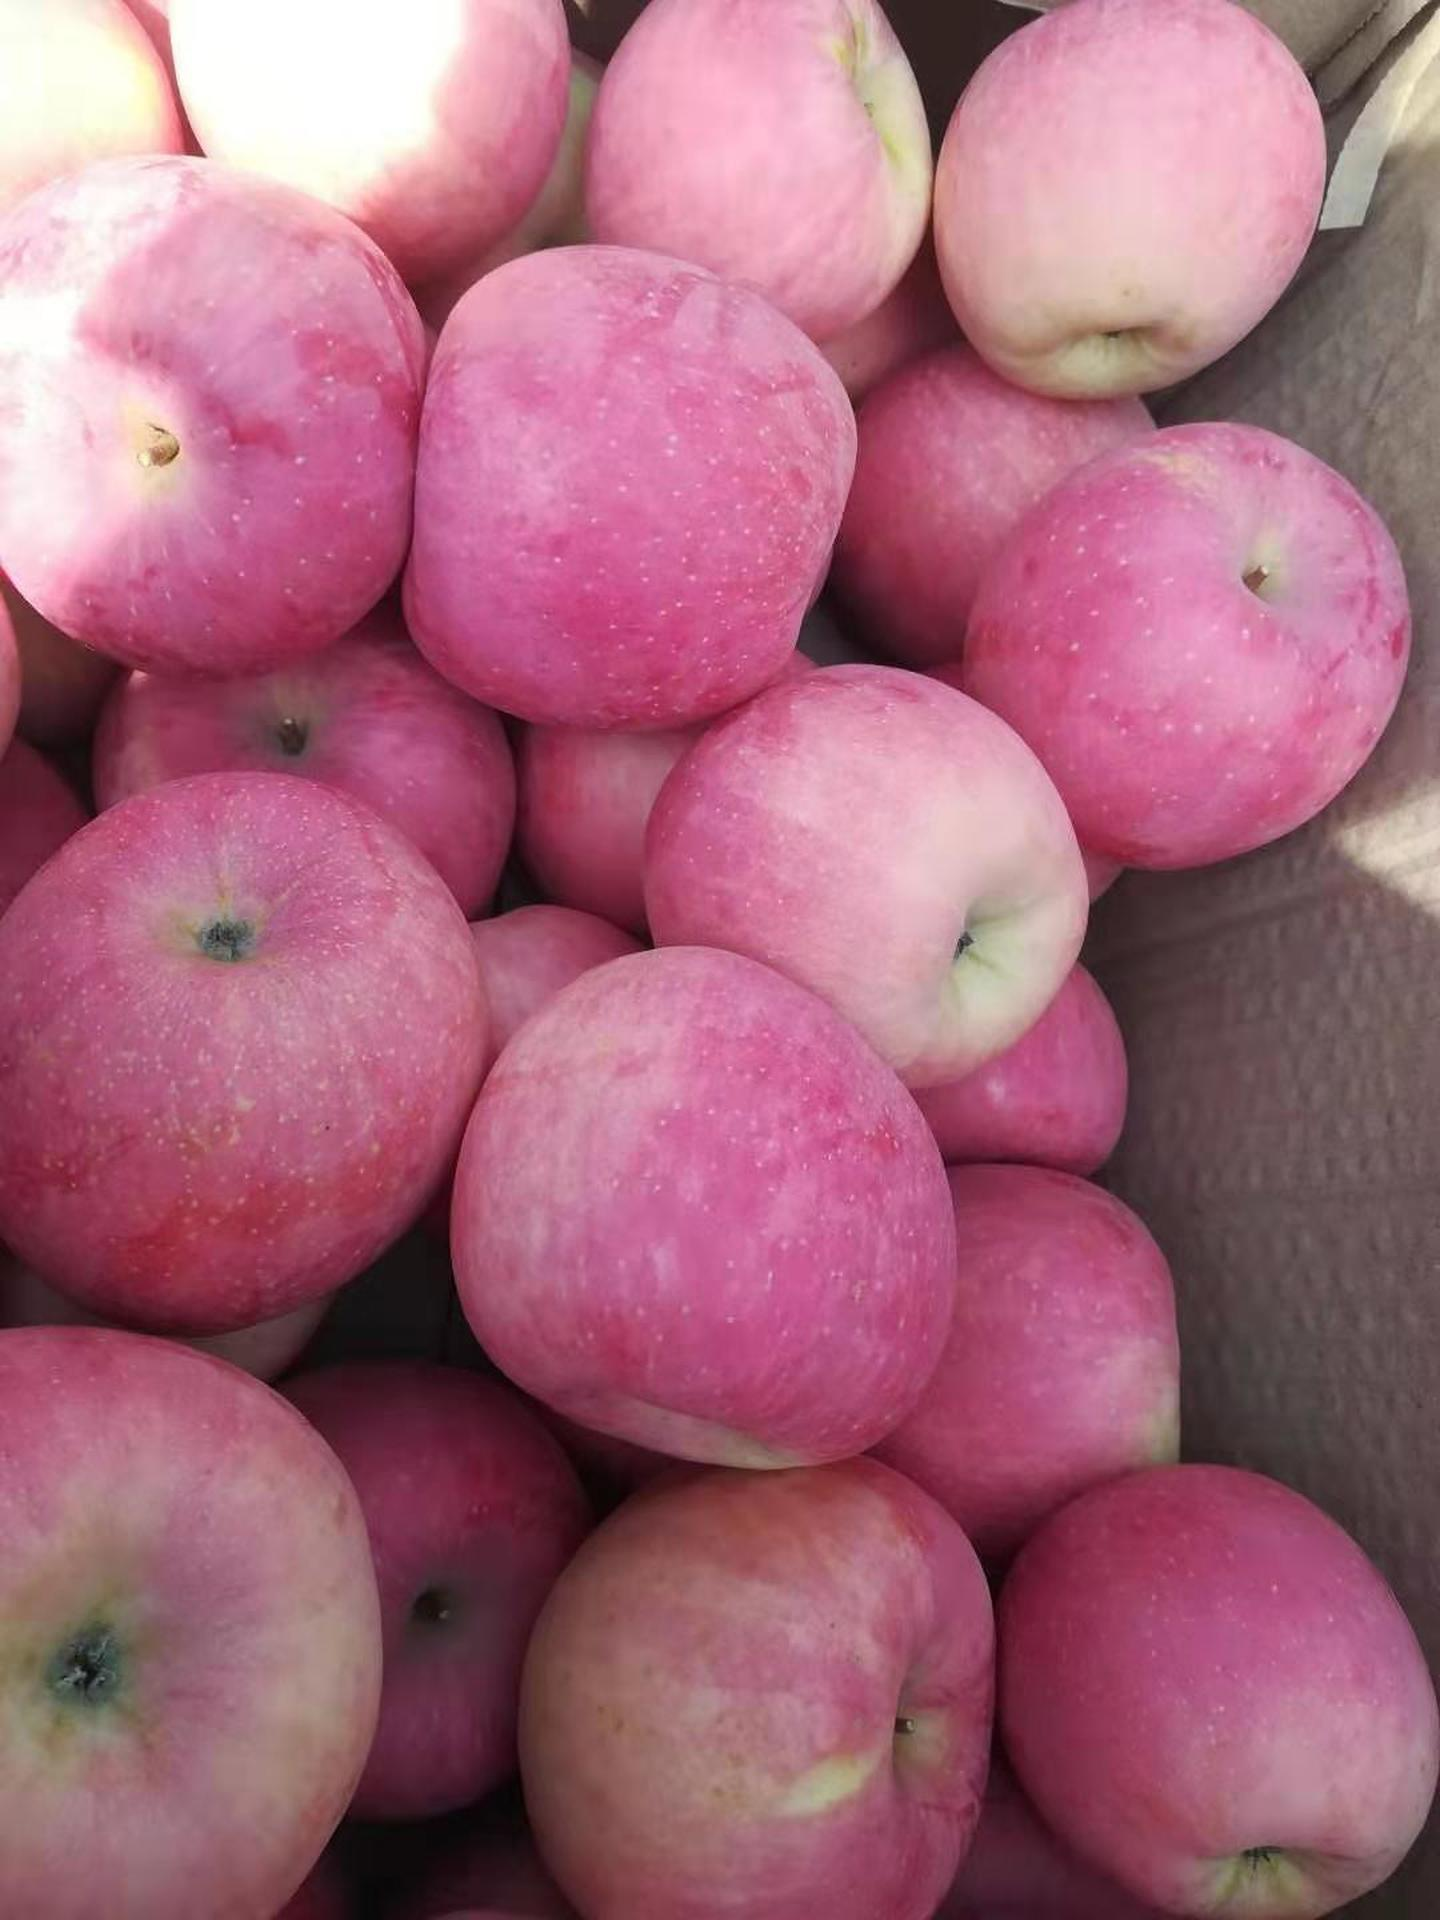apple: (2, 770, 510, 1341), (455, 916, 971, 1445), (395, 246, 865, 727), (2, 1330, 380, 1920), (2, 157, 414, 688), (510, 1454, 989, 1909), (961, 413, 1411, 878), (982, 1451, 1438, 1906), (637, 652, 1094, 1087), (933, 2, 1333, 401), (260, 1349, 582, 1831), (852, 1154, 1189, 1557), (77, 624, 516, 916), (160, 2, 570, 308), (581, 6, 938, 348), (829, 345, 1166, 661), (906, 955, 1125, 1178)
